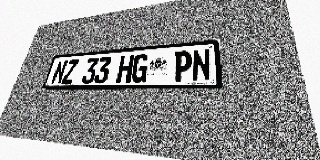3: (93, 57, 112, 83), (81, 58, 99, 84)
G: (131, 54, 149, 83)
H: (116, 55, 134, 83)
N: (192, 49, 211, 81), (50, 60, 68, 84)
P: (173, 50, 192, 82)
Z: (61, 59, 79, 84)
